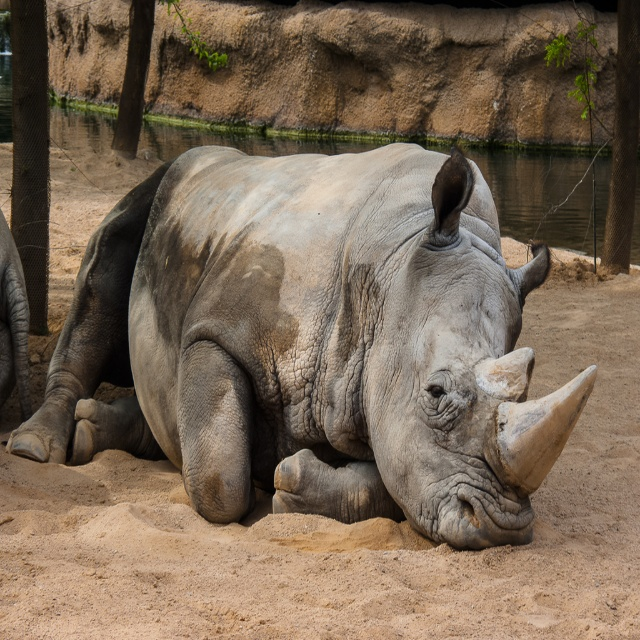Rhinoceros: (5, 139, 599, 549), (0, 201, 29, 427)
